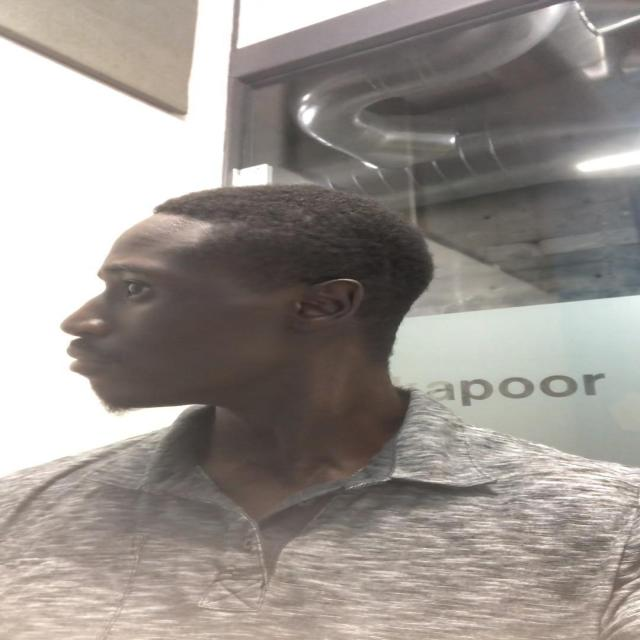face: (64, 220, 354, 414)
